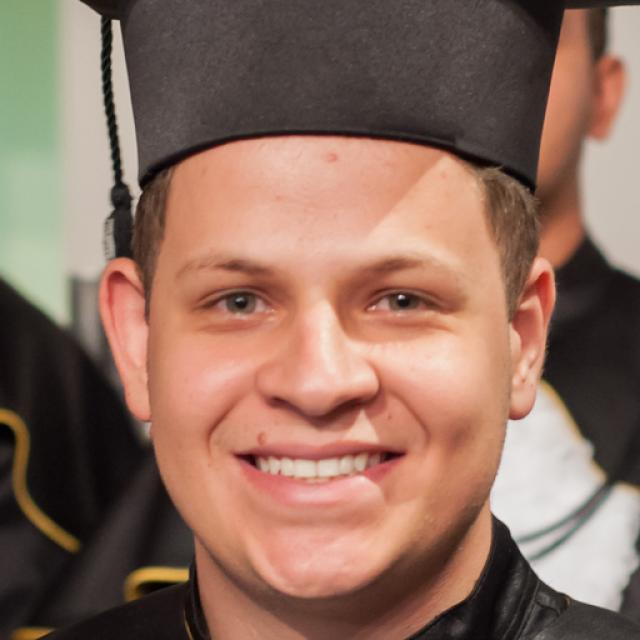Acne: (316, 143, 342, 174), (378, 401, 403, 425), (250, 430, 275, 447)
